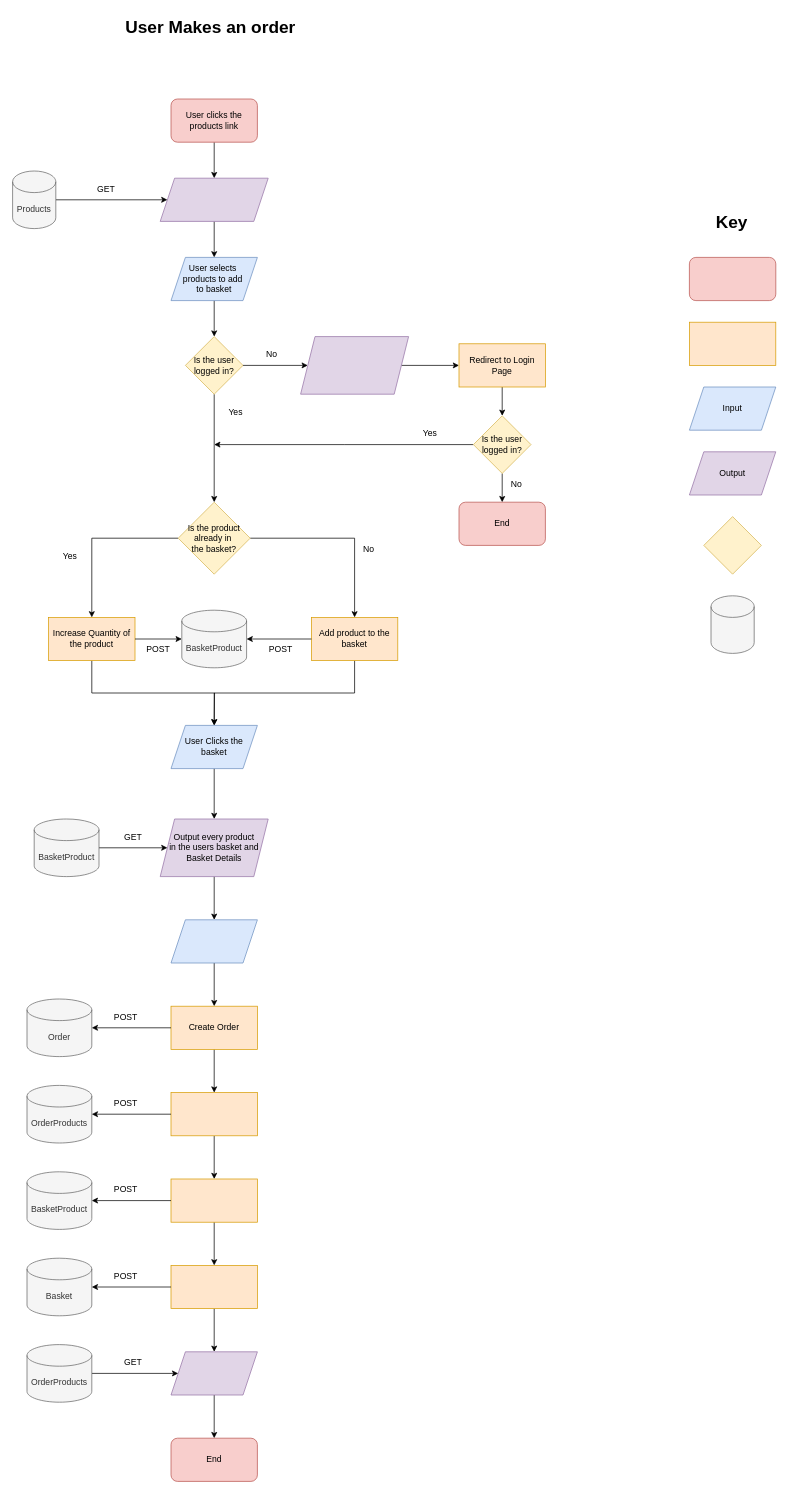
The diagram is 788 pixels wide and 1494 high, and some of its shapes have lost their labels. Here are the shapes that lost their labels. From the top down, the centre of each, then its label:
point 213,199: Output the different products with their corresponding details
point 732,279: Start/End
point 732,343: Process
point 354,365: Output message saying the user must be logged in to add products to the basket
point 732,545: Decision
point 732,624: Database
point 213,941: User Clicks Checkout
point 213,1114: Copy BasketProducts to OrderProducts
point 213,1200: Clear BasketProducts
point 213,1287: Clear Basket
point 213,1373: Output Users Order Details/Receipt
